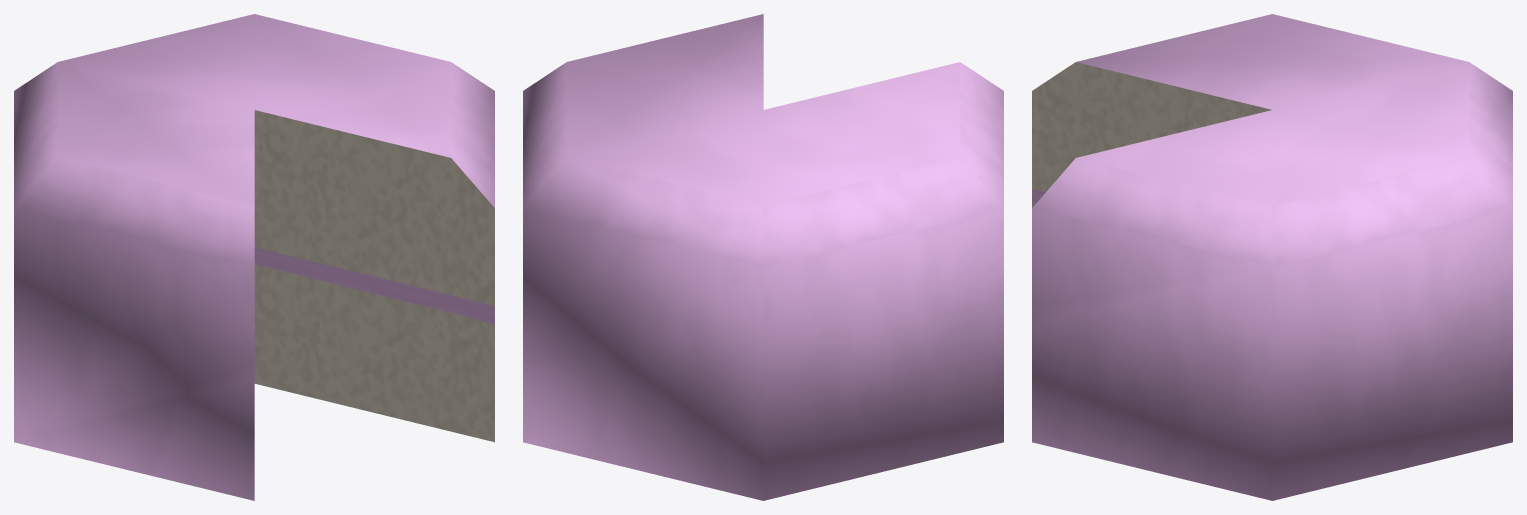
File: Cake_Sliced_D.FBX
3 views of the same model, side by side, from view 1: azimuth 30°, elevation 25°; view 2: azimuth 150°, elevation 25°; view 3: azimuth 270°, elevation 25° (orthographic).
Parts seen in each view (by area): view 1: Cake_E; view 2: Cake_E; view 3: Cake_E.
Boxes of the visible parts, x1,y1,x2,y2 form: Cake_E: [14, 14, 494, 500]; Cake_E: [523, 14, 1003, 500]; Cake_E: [1032, 14, 1512, 500].
Size of the model in its own units: 102 by 55.58 by 88.51.
